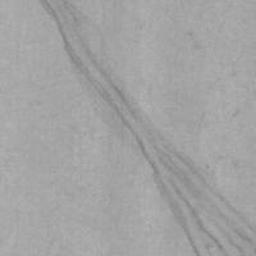Water spot: (44, 0, 256, 256)
